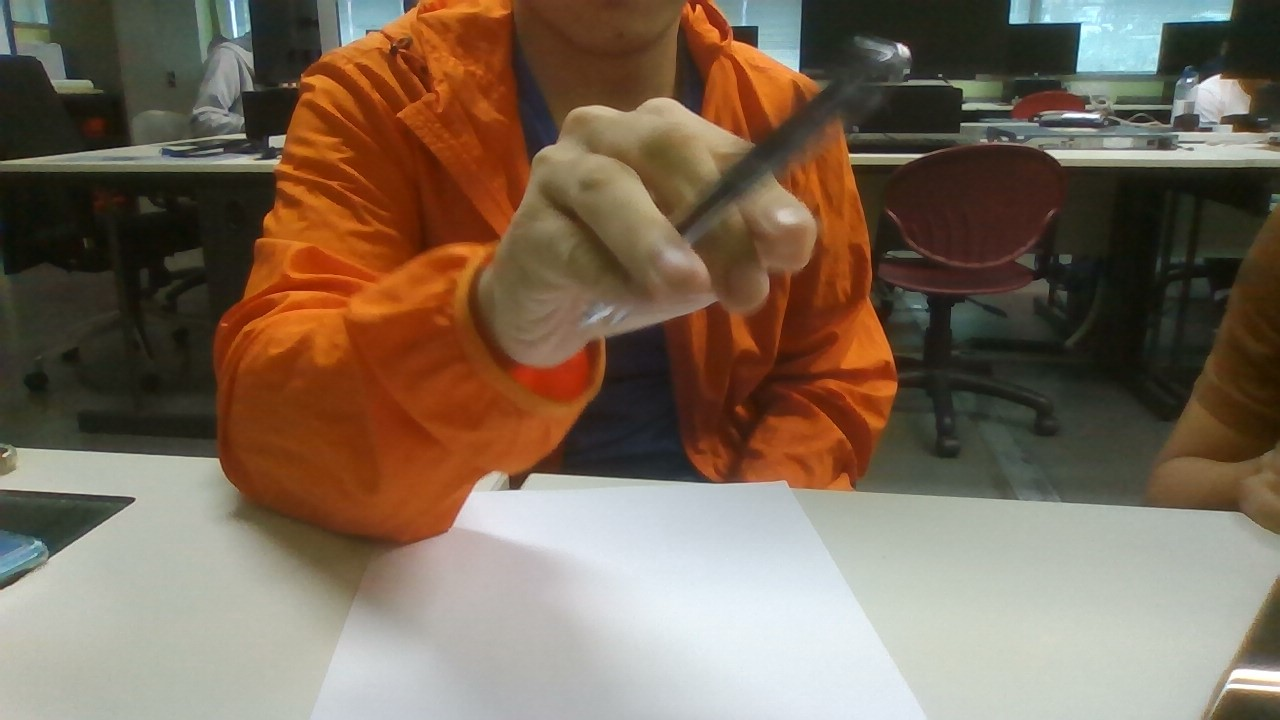pen: (581, 44, 912, 339)
